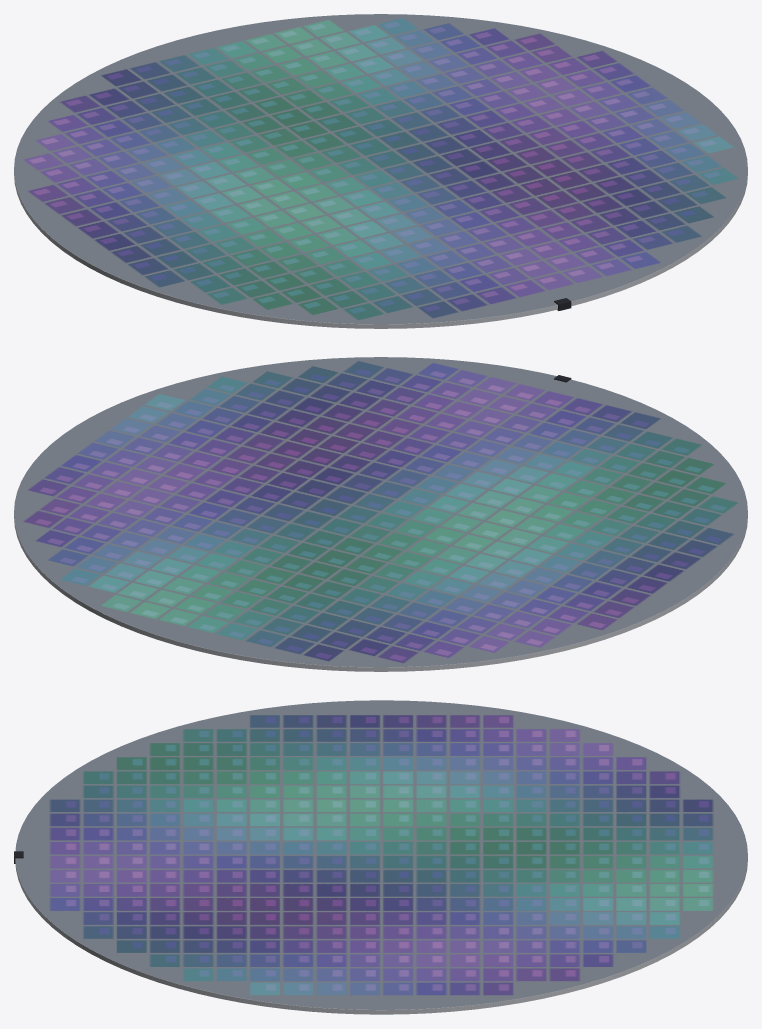
Rendered from wafer.glb.
The picture shows the model from 3 angles, top to bottom: view 1: azimuth 30°, elevation 25°; view 2: azimuth 150°, elevation 25°; view 3: azimuth 270°, elevation 25°; orthographic projection.
Visible parts, largest first — view 1: face, back; view 2: face, back; view 3: face, back.
Boxes of the visible parts, x1,y1,x2,y2 form: face: (14, 14, 747, 324); back: (14, 171, 747, 328); face: (14, 357, 747, 667); back: (14, 514, 747, 671); face: (15, 700, 747, 1009); back: (15, 857, 747, 1014).
Bounding box in the file's own units: 0.3 × 0.003 × 0.3005.
Materials: 3 (1 with a texture image).
